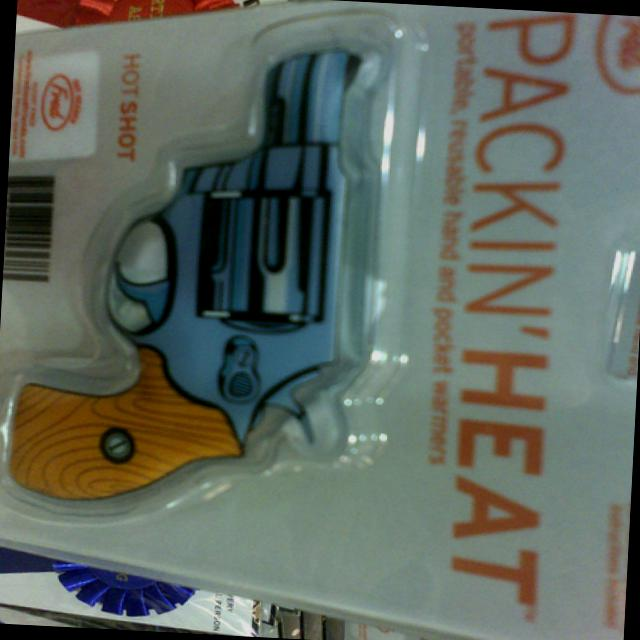handgun: (7, 24, 386, 517)
